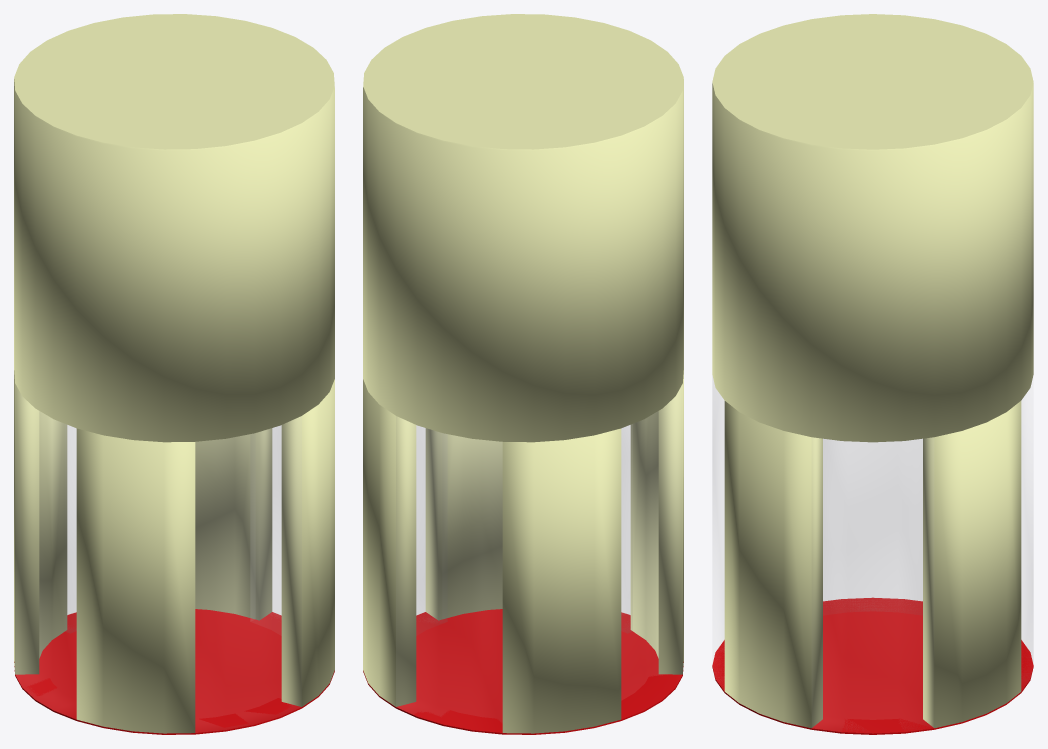
The model's file is itemSpawner.fbx.
The picture shows the model from 3 angles, left to right: view 1: azimuth 30°, elevation 25°; view 2: azimuth 150°, elevation 25°; view 3: azimuth 270°, elevation 25°; orthographic projection.
Parts seen in each view (by area): view 1: bottomCylinder.001, GlassArea, bottomSemiCircle2, bottomSemiCircle; view 2: bottomCylinder.001, GlassArea, bottomSemiCircle2, bottomSemiCircle; view 3: bottomCylinder.001, GlassArea, bottomSemiCircle2, bottomSemiCircle.
Part boxes in pixels (x1,y1,x2,y2): bottomCylinder.001: [14, 14, 334, 733]; GlassArea: [16, 411, 299, 732]; bottomSemiCircle2: [195, 609, 334, 725]; bottomSemiCircle: [14, 612, 254, 734]; bottomCylinder.001: [363, 14, 683, 733]; GlassArea: [398, 411, 660, 722]; bottomSemiCircle2: [363, 609, 502, 725]; bottomSemiCircle: [443, 612, 683, 734]; bottomCylinder.001: [712, 14, 1033, 728]; GlassArea: [713, 381, 1032, 731]; bottomSemiCircle2: [712, 665, 1033, 734]; bottomSemiCircle: [712, 597, 1033, 665].
Size of the model in its own units: 200 by 402 by 200.
